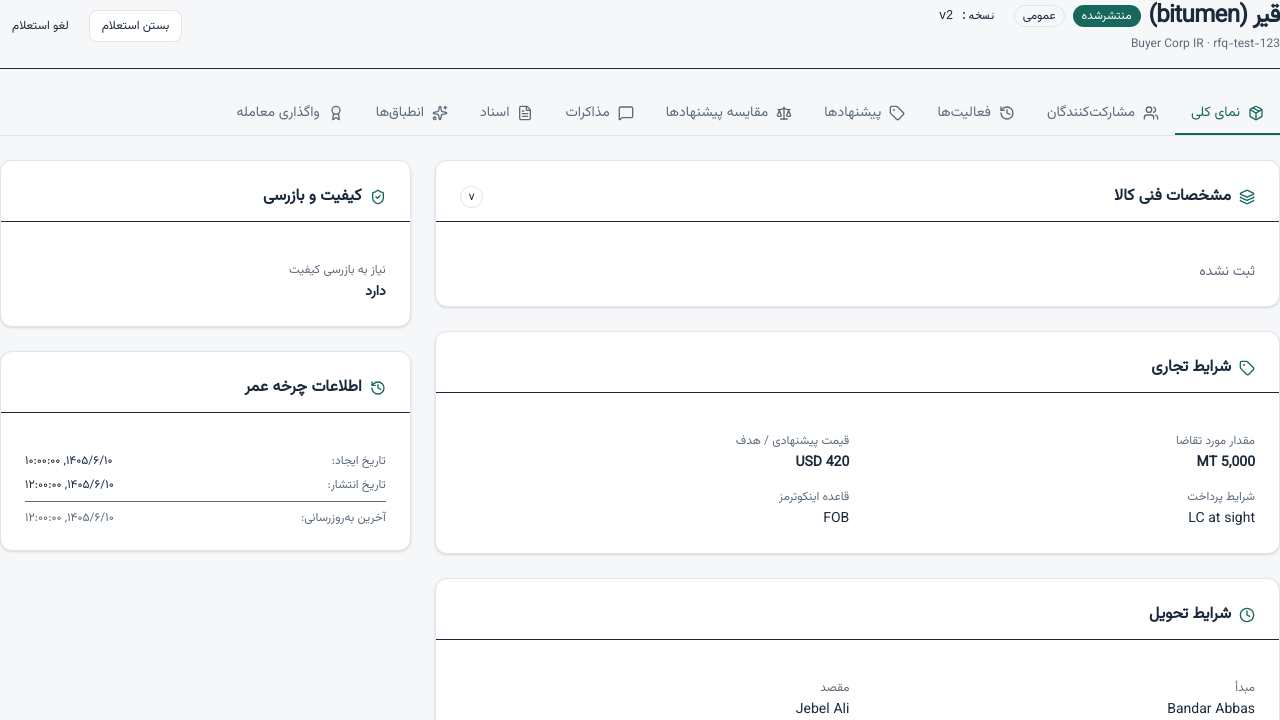
it: T0708 — Matching UI Component Suite › renders the Matches navigation tab for authorized Buyer and opens matching view
// Click Matches tab
Click the button "انطباق‌ها" at (412, 114), box [360,93,464,135]
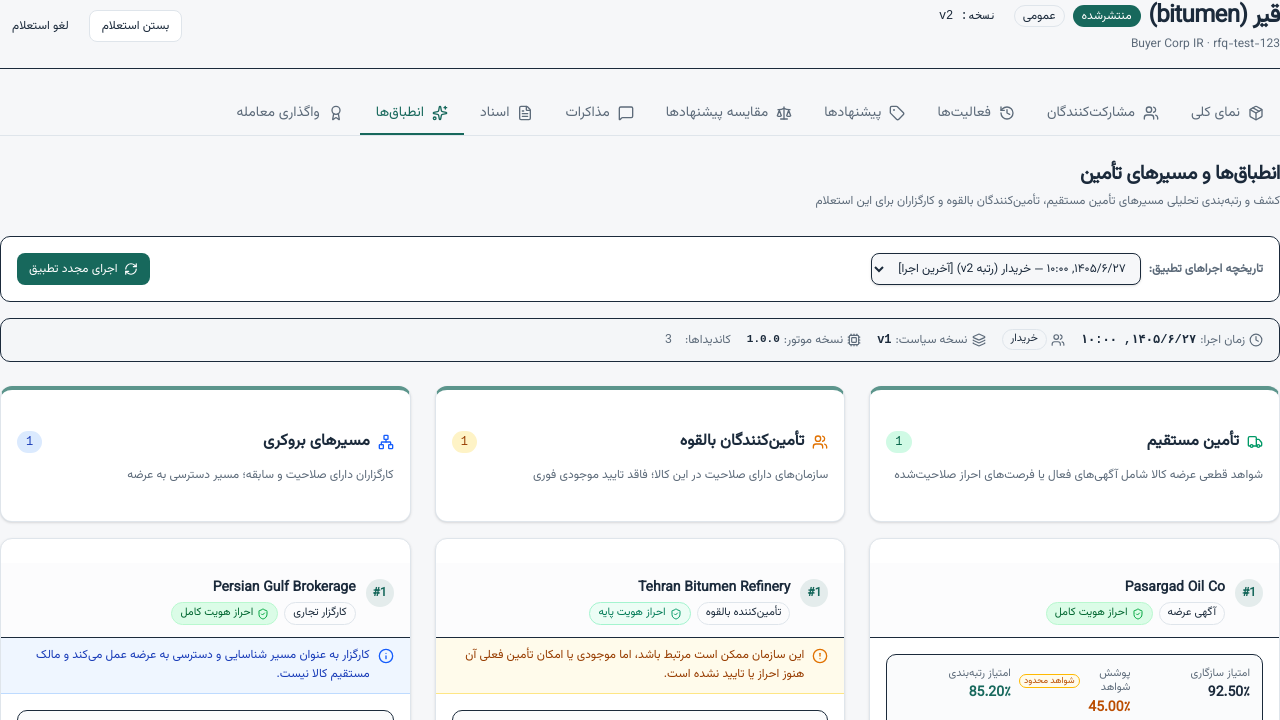
Now the heading "انطباق‌ها و مسیرهای تأمین" is shown, box [1080,158,1279,190]
Now the text "کشف و رتبه‌بندی تحلیلی مسیرهای تأمین مستقیم، تأمین‌کنندگان بالقوه و کارگزاران برای این استعلام" is shown, box [816,192,1279,210]
